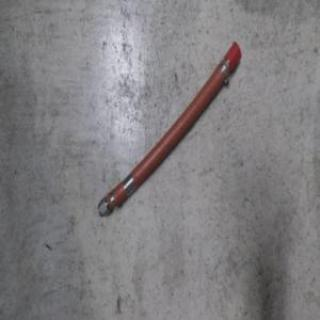Hosetrack_idkeyframe: (95, 39, 243, 221)
